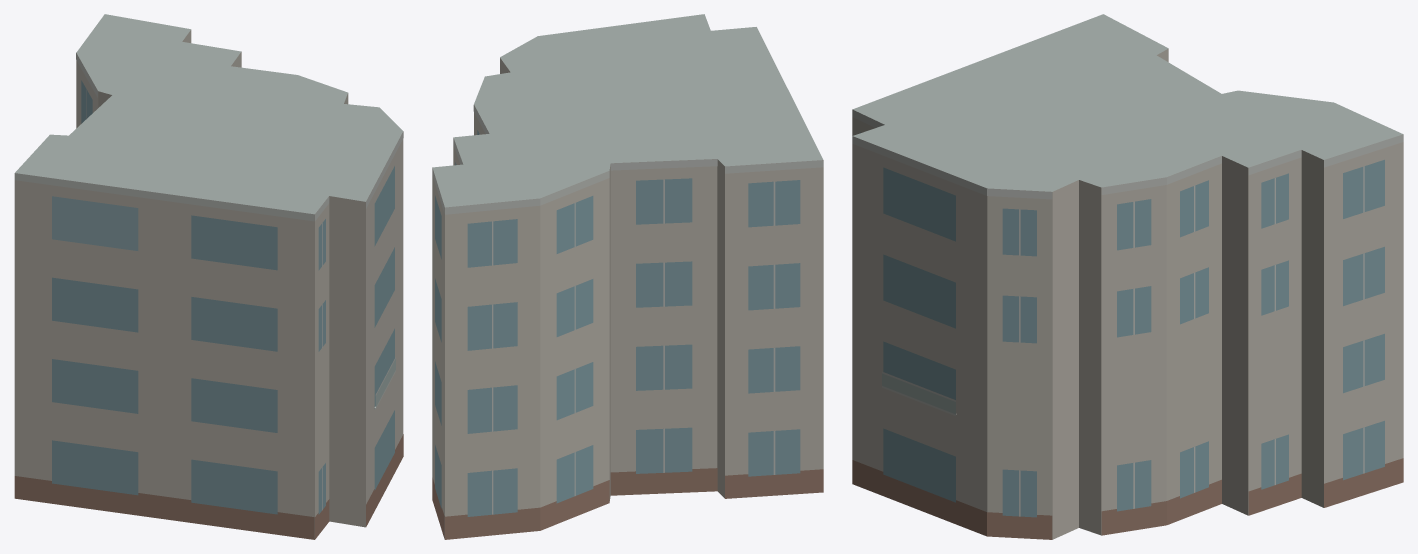
Rendered from survey-upis-32495739.glb.
The picture shows the model from 3 angles, left to right: view 1: azimuth 30°, elevation 25°; view 2: azimuth 150°, elevation 25°; view 3: azimuth 270°, elevation 25°; orthographic projection. The views are drawn at different scales.
Visible parts, largest first — view 1: survey-upis-32495739.tmp; view 2: survey-upis-32495739.tmp; view 3: survey-upis-32495739.tmp.
Part boxes in pixels (box(x1,y1,x2,y2)): survey-upis-32495739.tmp: box(14, 14, 403, 539); survey-upis-32495739.tmp: box(432, 14, 823, 539); survey-upis-32495739.tmp: box(852, 14, 1403, 539).
Size of the model in its own units: 12.17 by 11.1 by 15.94.
